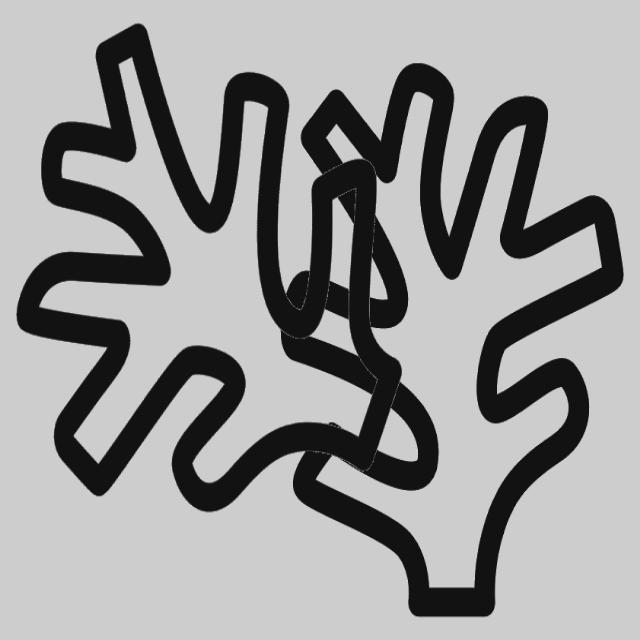coral: (11, 8, 410, 528), (271, 39, 622, 628)
